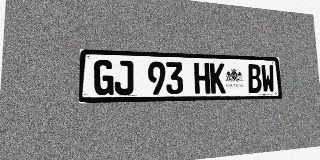3: (166, 62, 183, 94)
9: (148, 61, 166, 95)
B: (247, 64, 262, 93)
G: (93, 60, 114, 95)
H: (194, 63, 210, 94)
J: (114, 60, 133, 95)
K: (210, 63, 226, 94)
W: (261, 64, 275, 93)
